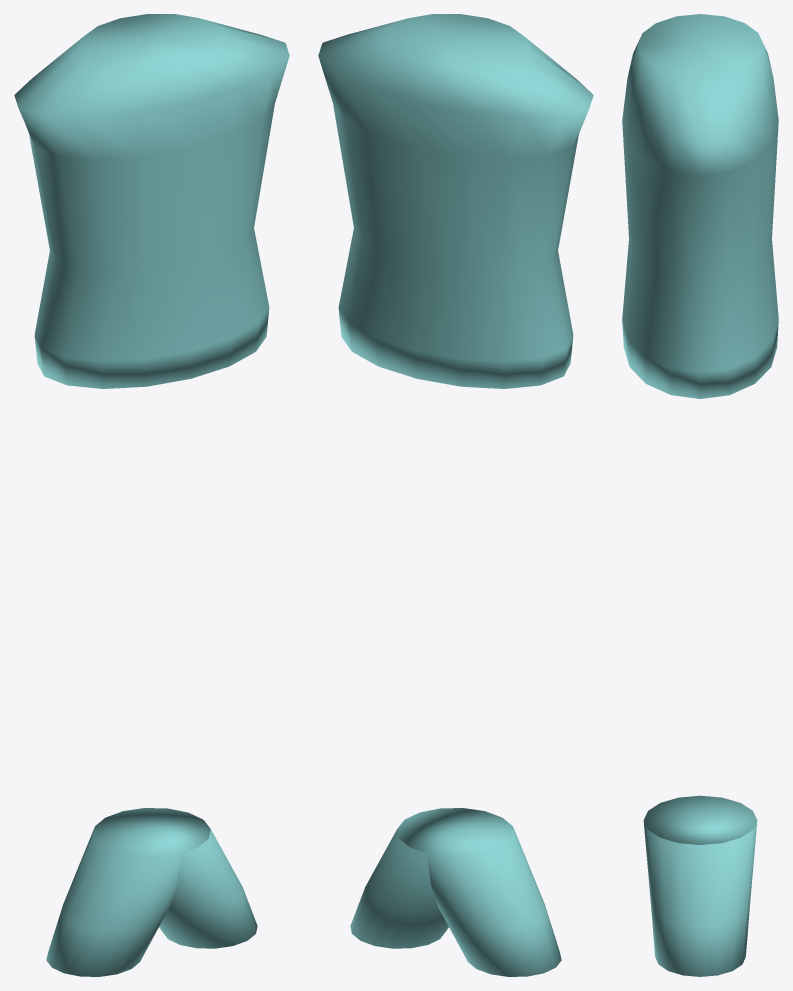
File: short_sleeve.glb
3 renders of one model, left to right at view 1: azimuth 30°, elevation 25°; view 2: azimuth 150°, elevation 25°; view 3: azimuth 270°, elevation 25°, orthographic.
Visible parts, largest first — view 1: shirt, sleeve (×2); view 2: shirt, sleeve (×2); view 3: shirt, sleeve (×2).
Part boxes in pixels (bbox=[...]): shirt: bbox=[14, 14, 289, 388]; sleeve (×2): bbox=[46, 808, 257, 976]; shirt: bbox=[318, 14, 593, 388]; sleeve (×2): bbox=[350, 808, 561, 976]; shirt: bbox=[622, 14, 778, 398]; sleeve (×2): bbox=[643, 795, 757, 976].
Bounding box in the file's own units: 0.58 × 1.87 × 0.3.
